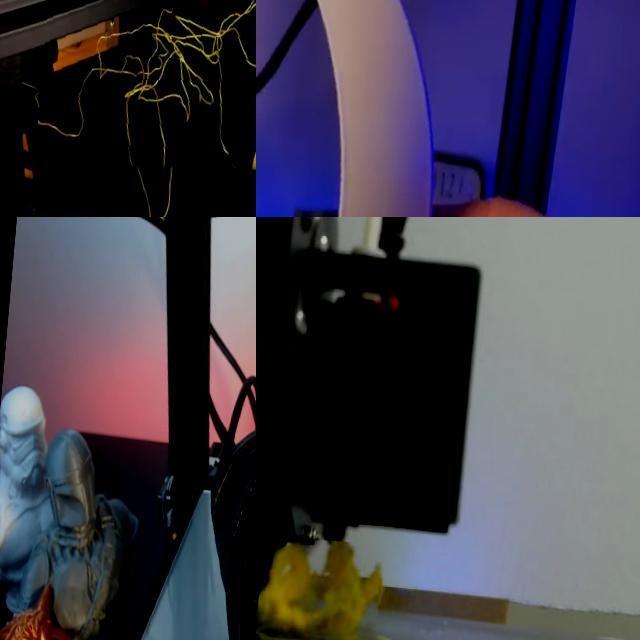spaghetti: (33, 0, 256, 186), (257, 541, 382, 637)
